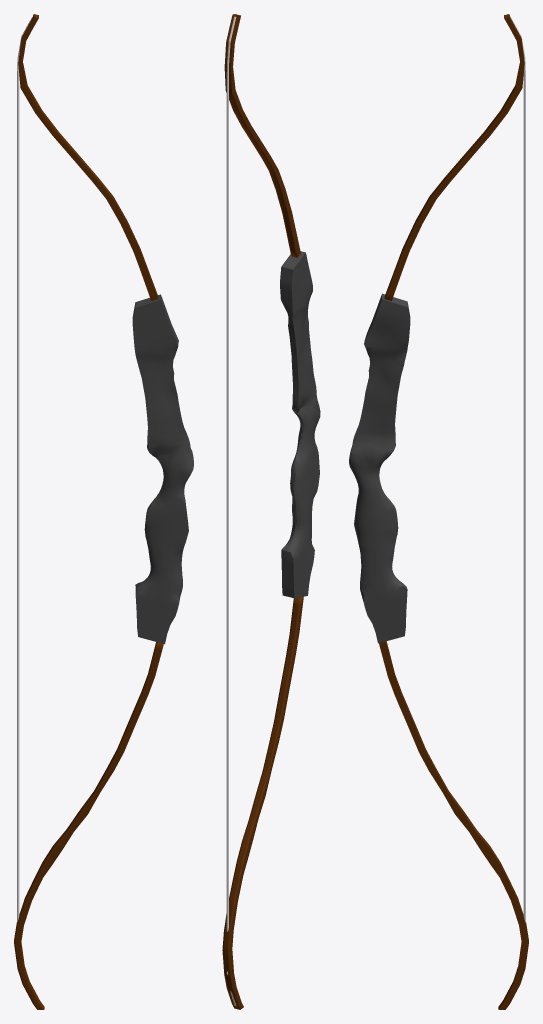
Rendered from recurve_bow.fbx.
The picture shows the model from 3 angles, left to right: view 1: azimuth 90°, elevation 25°; view 2: azimuth 150°, elevation 25°; view 3: azimuth 270°, elevation 25°; orthographic projection.
Visible parts, largest first — view 1: Grip, LowerLimb, String, UpperLimb; view 2: Grip, LowerLimb, String, UpperLimb; view 3: Grip, String, UpperLimb, LowerLimb.
Boxes of the visible parts, <box> form: Grip: <box>18,14,193,1009</box>; LowerLimb: <box>14,642,163,1009</box>; String: <box>17,16,32,922</box>; UpperLimb: <box>18,17,152,298</box>; Grip: <box>224,14,320,1008</box>; LowerLimb: <box>222,596,303,1009</box>; String: <box>226,16,236,1005</box>; UpperLimb: <box>226,16,297,257</box>; Grip: <box>349,14,528,1009</box>; String: <box>510,16,525,922</box>; UpperLimb: <box>385,17,523,300</box>; LowerLimb: <box>379,641,528,1005</box>.
Bounding box in the file's own units: 6.41 × 466 × 76.59.
